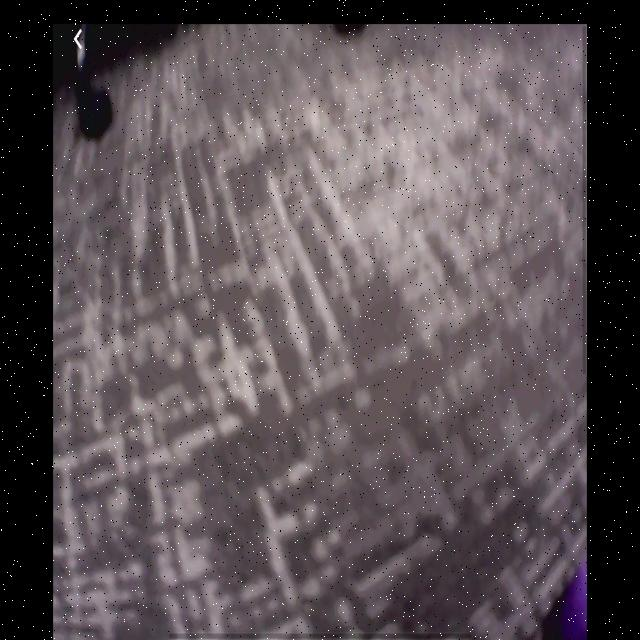ball: (568, 556, 589, 639)
